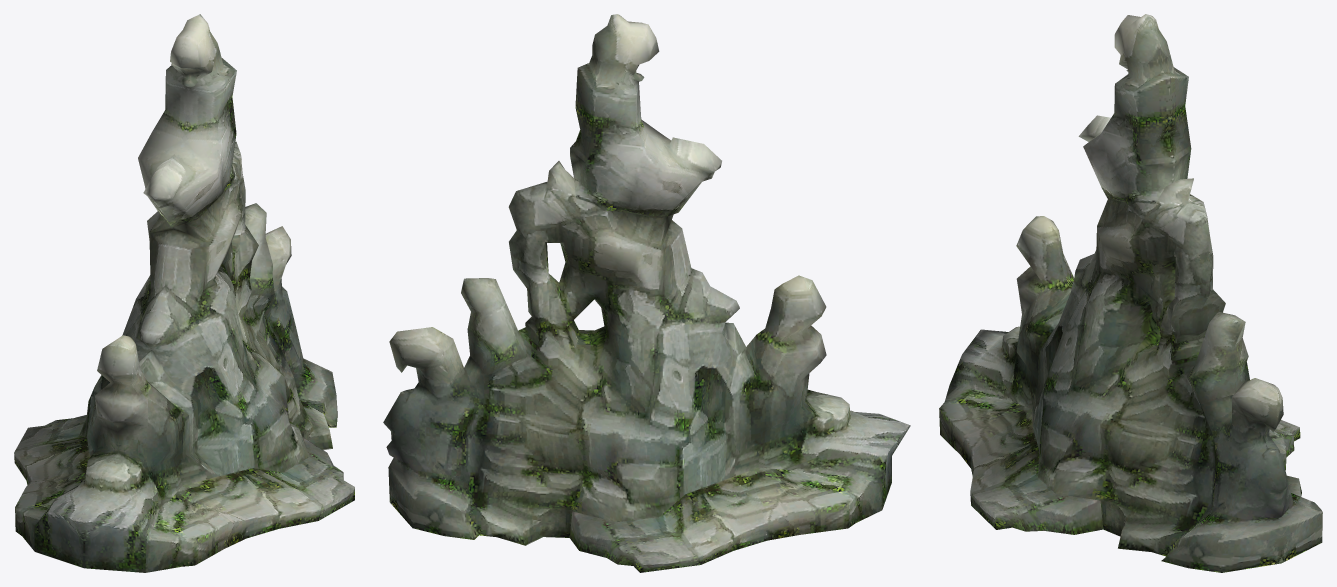
File: Hangzhou_wj_013.FBX
3 views of the same model, side by side, from view 1: azimuth 30°, elevation 25°; view 2: azimuth 150°, elevation 25°; view 3: azimuth 270°, elevation 25° (orthographic). The views are drawn at different scales.
Parts seen in each view (by area): view 1: Object001; view 2: Object001; view 3: Object001.
Part boxes in pixels (x1,y1,x2,y2): Object001: [14, 14, 354, 572]; Object001: [383, 14, 910, 572]; Object001: [939, 14, 1322, 572].
Bounding box in the file's own units: 275 × 316 × 232.
1 material, 1 textured.
